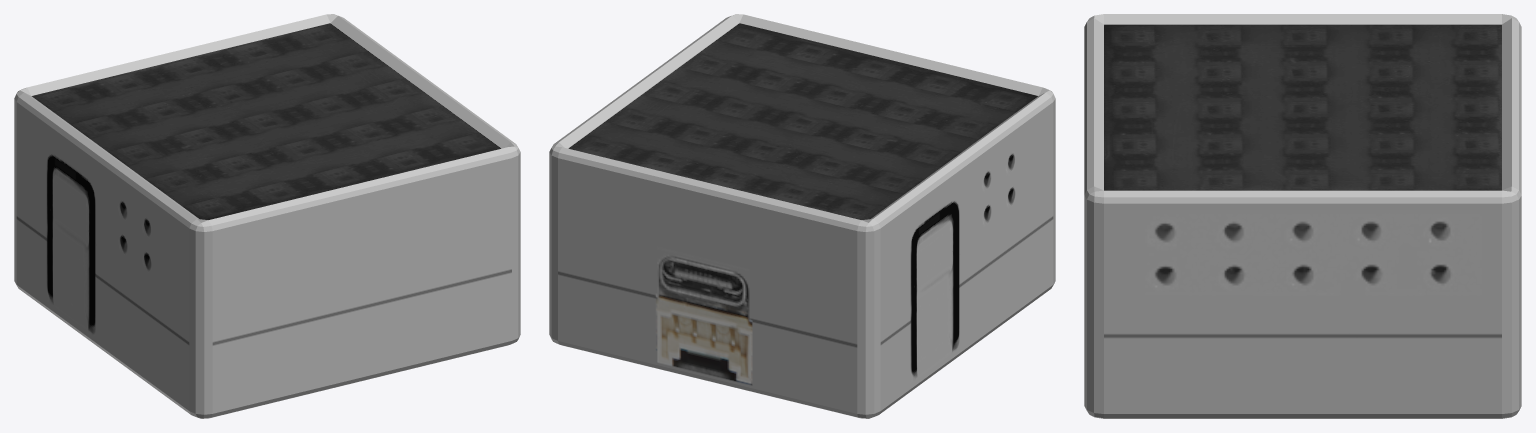
The model's file is atom.glb.
3 renders of one model, left to right at view 1: azimuth 30°, elevation 25°; view 2: azimuth 150°, elevation 25°; view 3: azimuth 270°, elevation 25°, orthographic. The views are drawn at different scales.
Visible parts, largest first — view 1: Cube; view 2: Cube; view 3: Cube.
Boxes of the visible parts, x1,y1,x2,y2 form: Cube: (14,14,520,418); Cube: (549,14,1055,418); Cube: (1084,14,1521,418).
Size of the model in its own units: 0.24 by 0.1383 by 0.24.
Materials: 1 (1 with a texture image).
